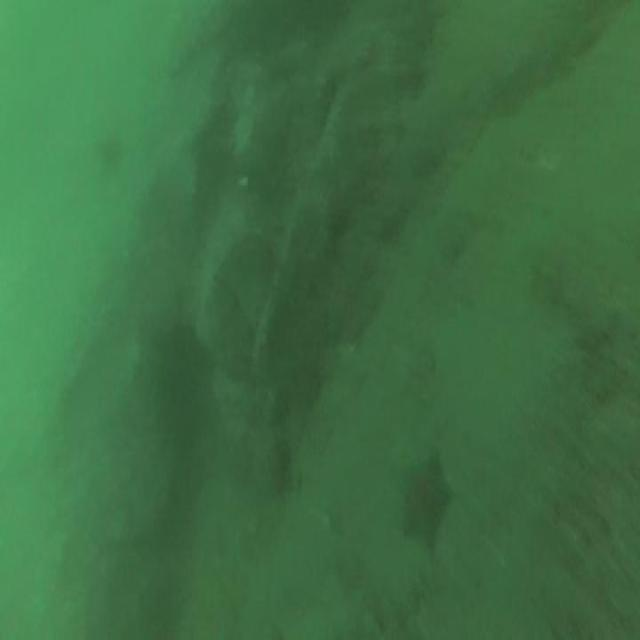echinus: (159, 324, 210, 423)
starfish: (397, 451, 451, 552)
